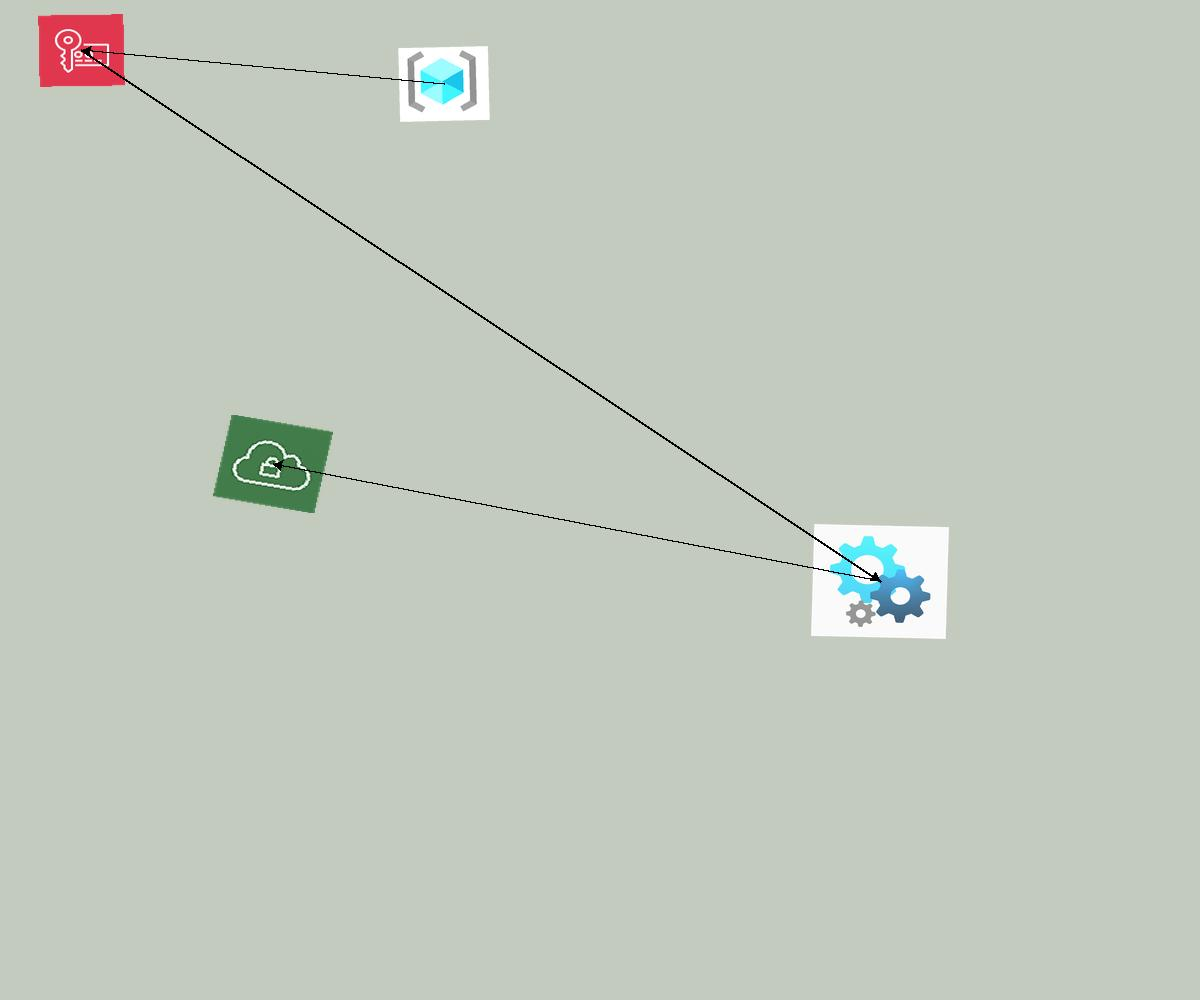AWS-Key-Management-Service: (38, 14, 125, 87)
AWS-Private_vpc: (213, 414, 333, 514)
Azure_api: (811, 524, 949, 639)
Azure_resource_group: (398, 46, 490, 122)
